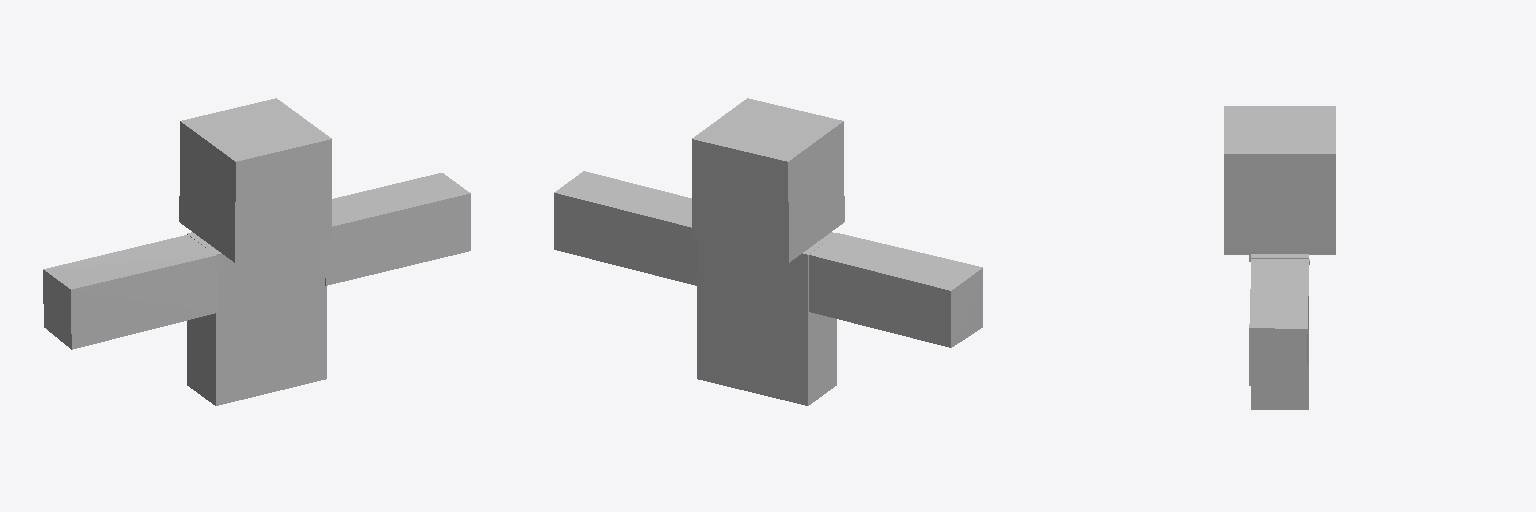
File: steve_body.obj
The picture shows the model from 3 angles: view 1: azimuth 30°, elevation 25°; view 2: azimuth 150°, elevation 25°; view 3: azimuth 270°, elevation 25°; orthographic projection.
Parts seen in each view (by area): view 1: Cube.006, Cube.005, Cube.001, Cube.004; view 2: Cube.006, Cube.005, Cube.001, Cube.004; view 3: Cube.006, Cube.004, Cube.005.
Part boxes in pixels (left/top/right/bottom): Cube.006: left=179, top=98, right=331, bottom=262; Cube.005: left=187, top=232, right=326, bottom=405; Cube.001: left=43, top=235, right=217, bottom=349; Cube.004: left=325, top=173, right=470, bottom=285; Cube.006: left=692, top=98, right=844, bottom=262; Cube.005: left=697, top=232, right=836, bottom=405; Cube.001: left=809, top=233, right=982, bottom=347; Cube.004: left=554, top=171, right=697, bottom=285; Cube.006: left=1224, top=106, right=1335, bottom=254; Cube.004: left=1249, top=259, right=1309, bottom=385; Cube.005: left=1251, top=254, right=1308, bottom=409.
Bounding box in the file's own units: 1.82 × 1.1 × 0.44.